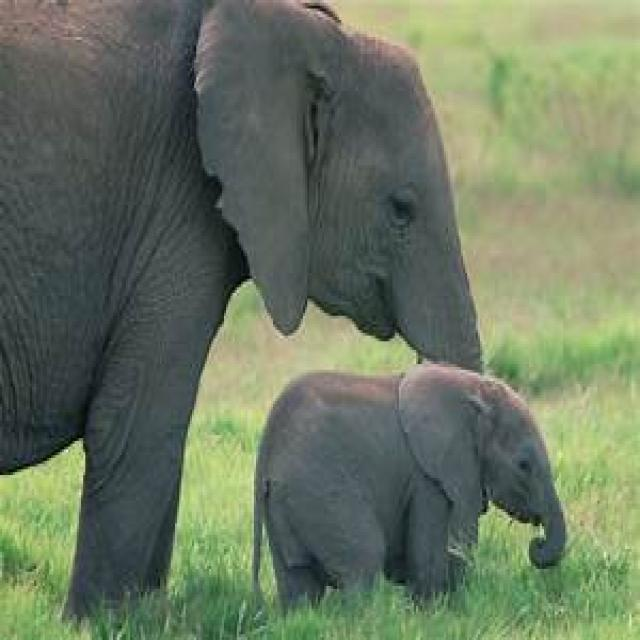elephant: (252, 364, 570, 612)
